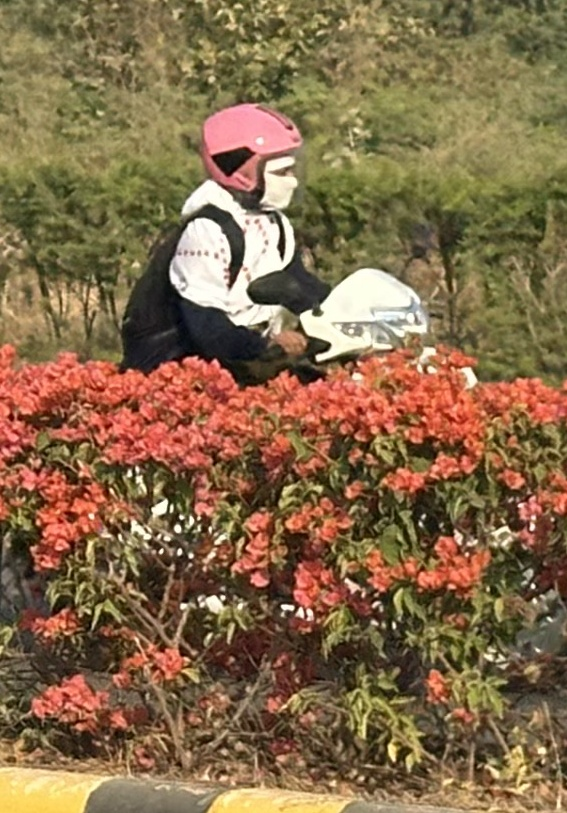BikeWithRider: (66, 69, 530, 645)
Helmet: (188, 93, 313, 220)
